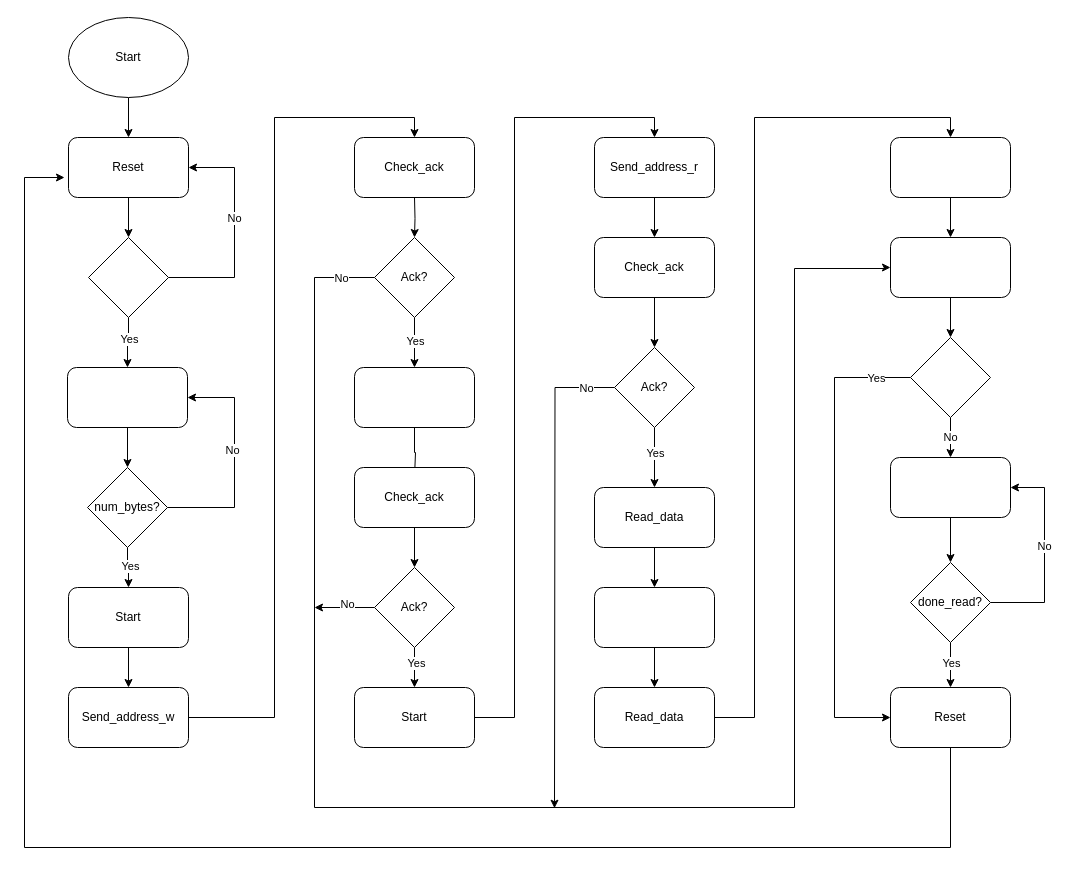
Image size: 1070x873. Some labels were removed from this diagram. The centre of each missing label's shape, as x and y in pixels:
"error_signal?" belongs at [950,377].
"Idle" belongs at [127,397].
"Released button?" belongs at [128,277].
"Send_ack" belongs at [654,617].
"Send_nack" belongs at [950,167].
"Send_registr" belongs at [414,397].
"Send_to_master" belongs at [950,487].
"Stop" belongs at [950,267].
